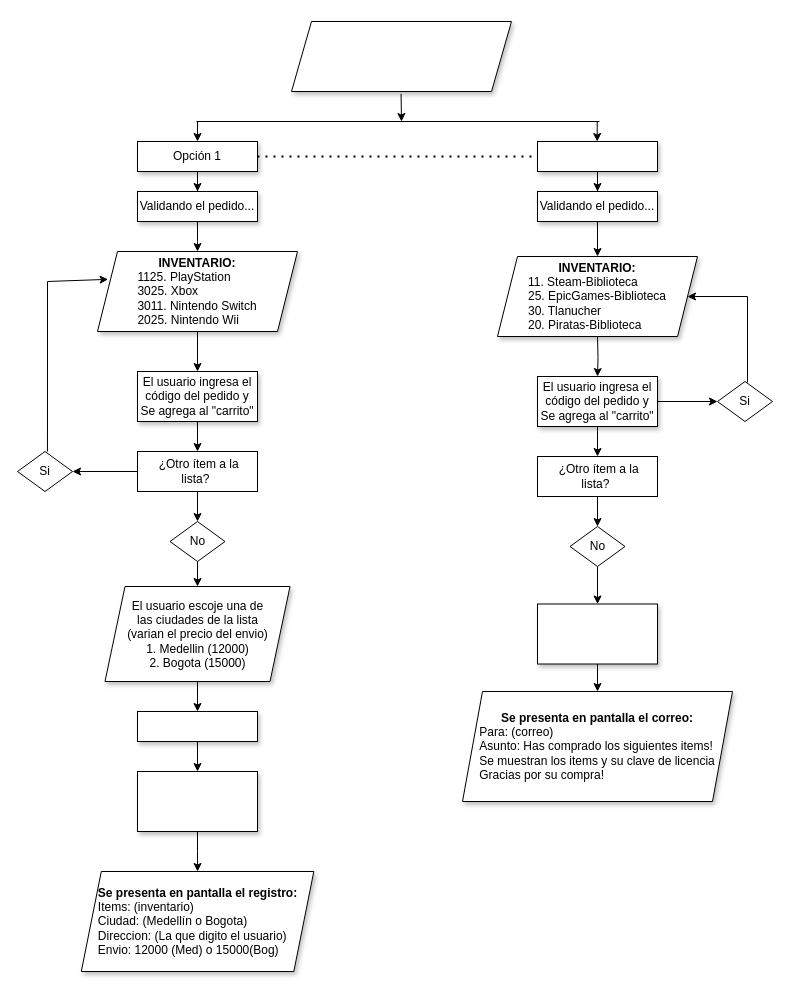
The diagram is 790 pixels wide and 996 high, and some of its shapes have lost their labels. The centre of each missing label's shape, as x and y in pixels:
El usuario ingresa su correo: the point at 598,635
El usuario ingresa su dirección: the point at 198,802
Opción 1-2: the point at 198,727
Opción 2: the point at 598,157
¿Qué tipo de pedido desea hacer? 1. Producto en físico 2. Producto en Digital: the point at 402,57
